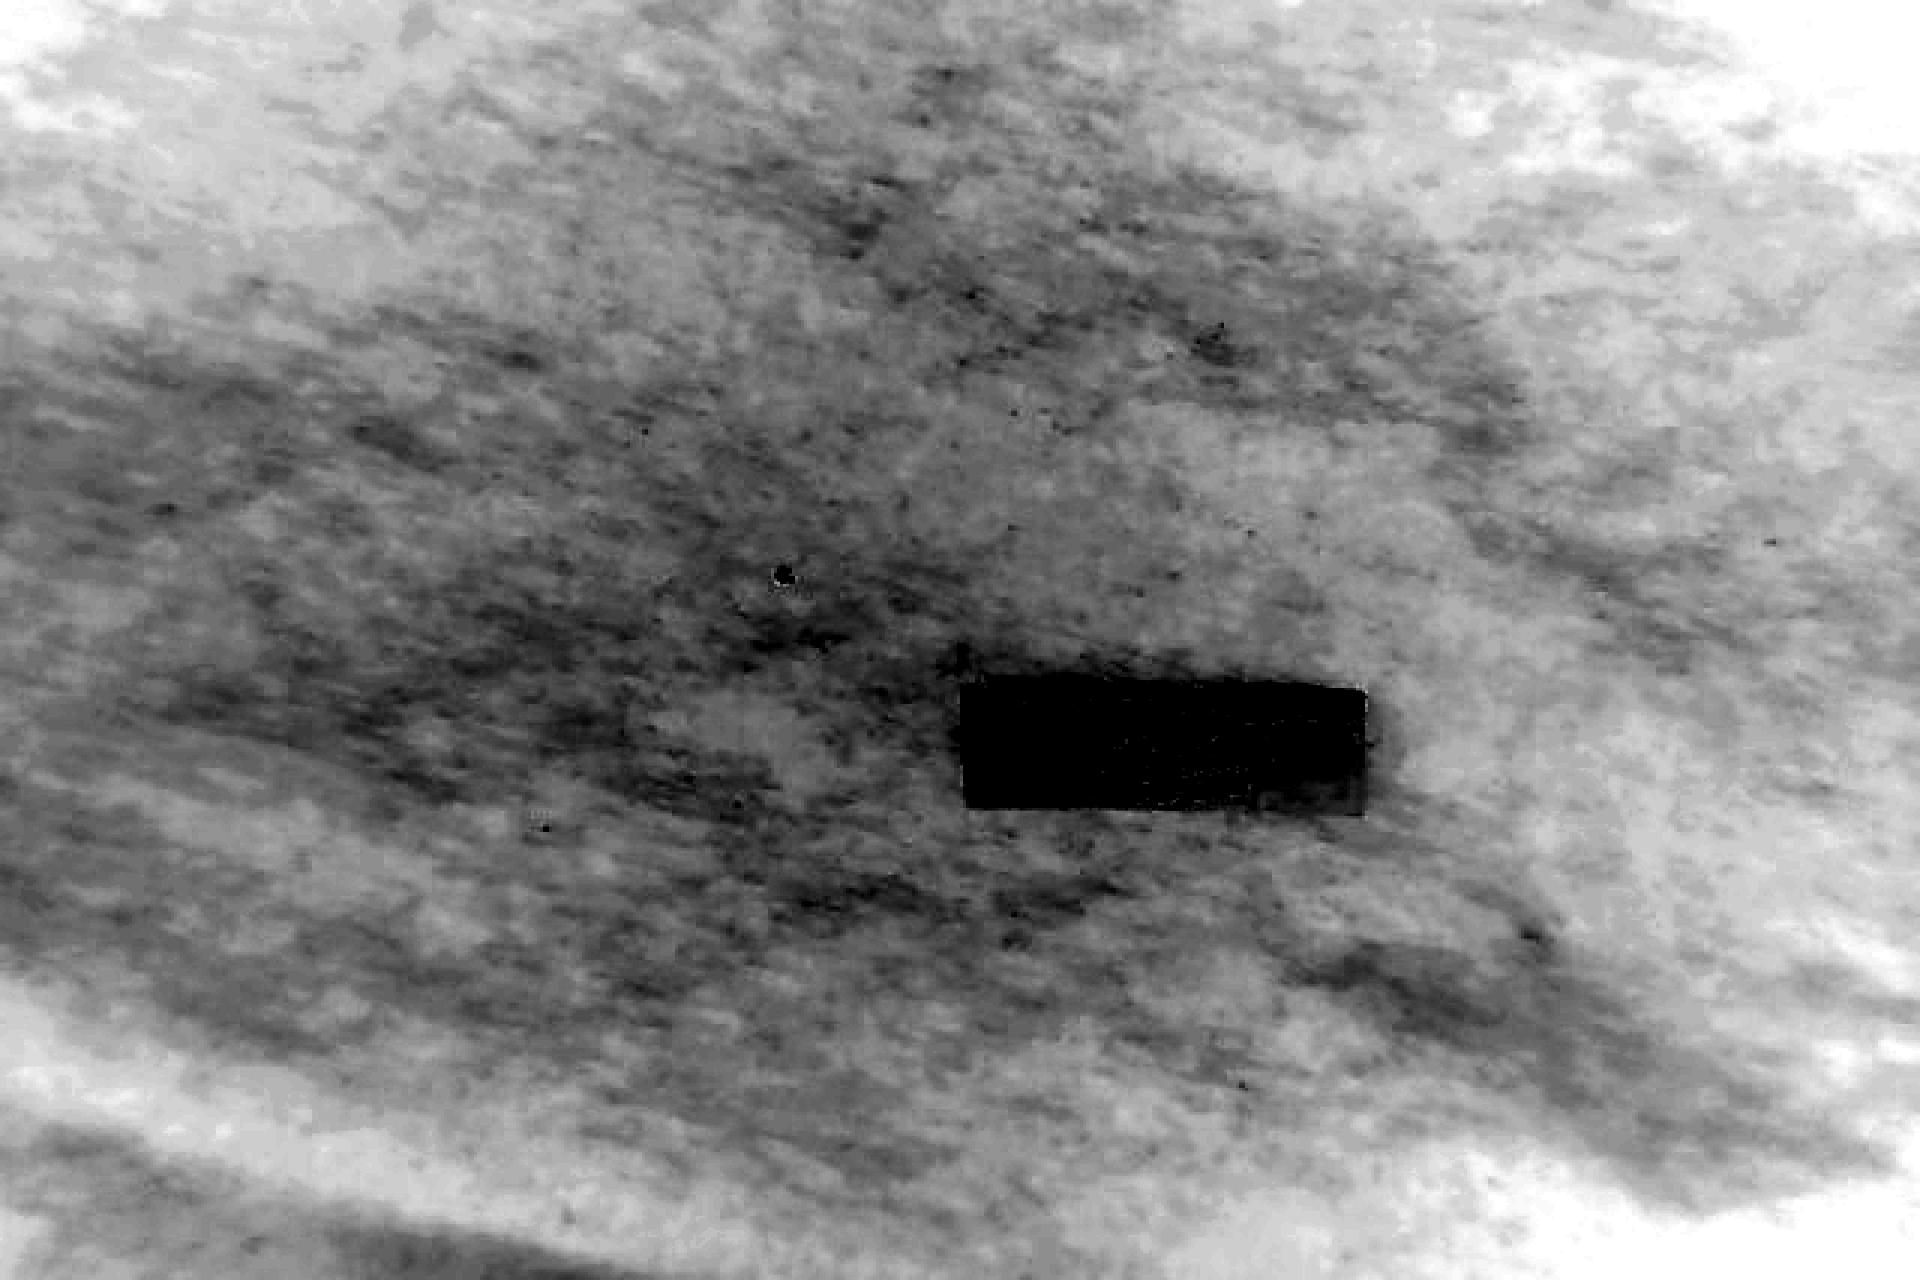hand_label: (964, 690, 1361, 811)
